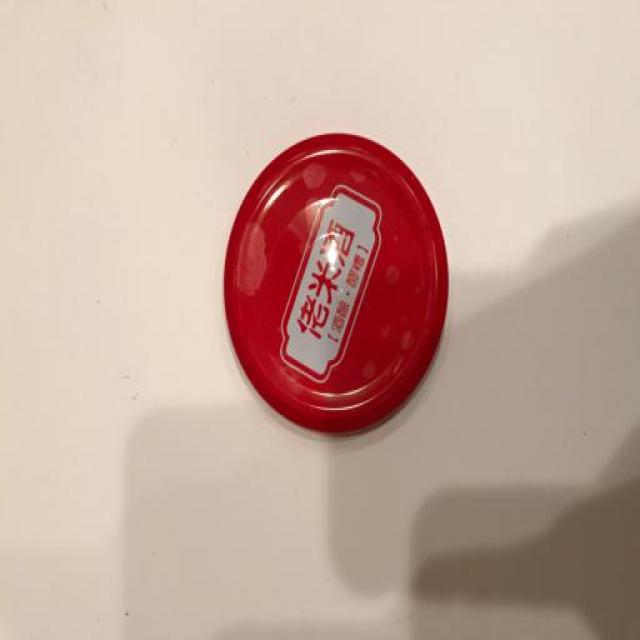metel: (210, 119, 500, 457)
